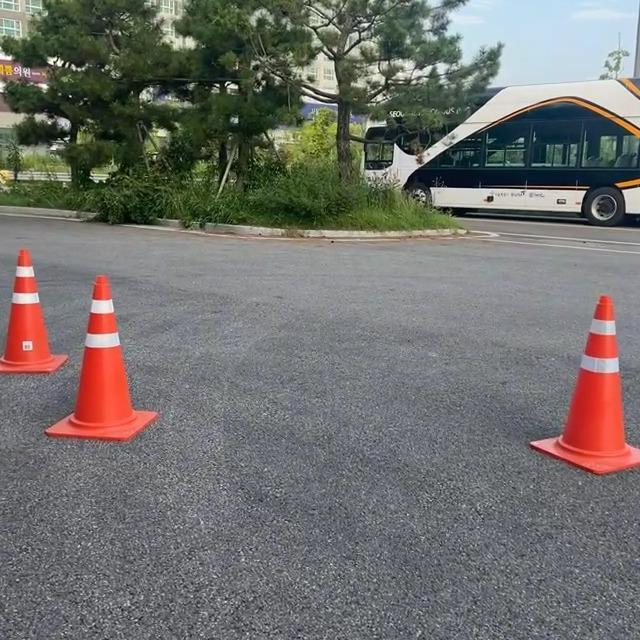fallen_object: (479, 242, 640, 466), (36, 263, 168, 431), (0, 233, 62, 391)
